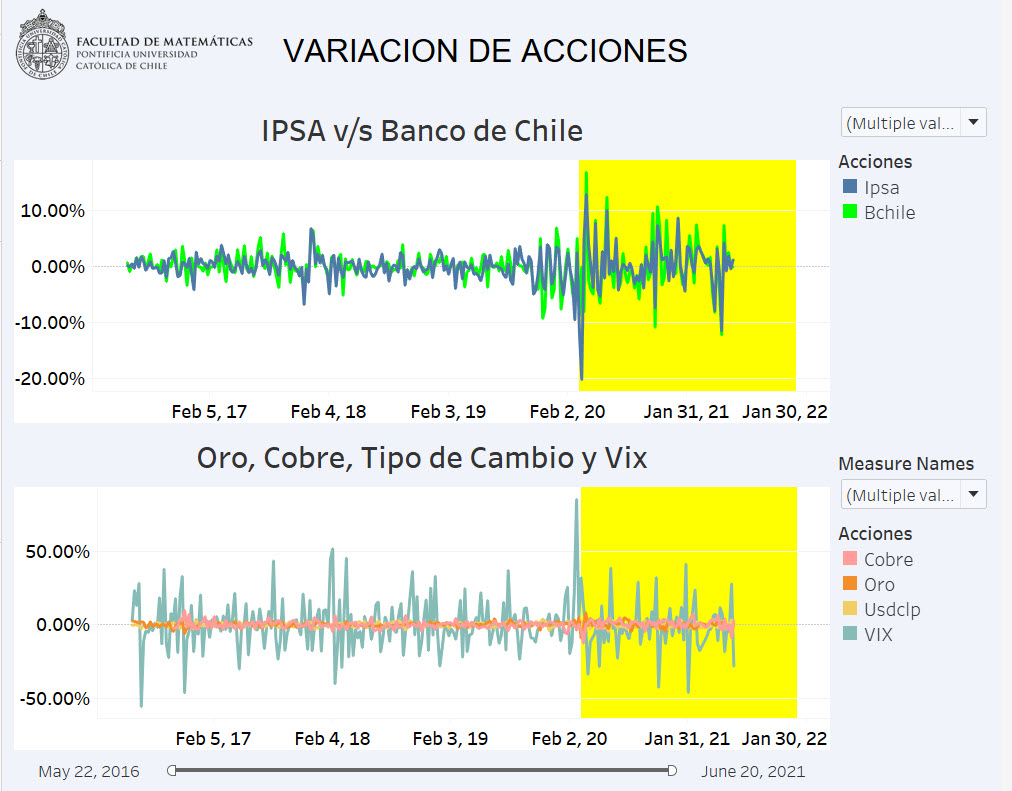

This screenshot's page, from the dashboard's own definition file:
{"tool":"tableau","page":{"name":"Dashboard 1","canvas":[1000,800],"ordinal":0},"visuals":[{"type":"image","param":"C:/Users/do603ra/OneDrive - EXPERIAN SERVICES CORP/Desktop/Documents/Diplomado D","box":[8,8,265,97]},{"type":"text","box":[273,8,719,97]},{"type":"worksheet","title":"Valor Acciones","mark":"Automatic","cols":["Dates"],"box":[8,105,824,310.5]},{"type":"filter","title":"Valor Acciones","param":"[federated.0wq98dv0ac4p2o17fgkwq043otzu].[:Measure Names]","box":[832,105,160,44]},{"type":"legend","title":"Valor Acciones","param":"[federated.0wq98dv0ac4p2o17fgkwq043otzu].[:Measure Names]","box":[832,149,160,209]},{"type":"filter","title":"Valor Acciones","param":"[federated.0wq98dv0ac4p2o17fgkwq043otzu].[twk:Dates:qk]","box":[8,415.5,824,33]},{"type":"filter","title":"Retorno Acciones","param":"[federated.0ksgszr1jfew8n1ft6bxq1y396vv].[:Measure Names]","box":[832,448,160,44]},{"type":"worksheet","title":"Retorno Acciones","mark":"Automatic","cols":["Dates"],"box":[8,448.5,824,310.5]},{"type":"legend","title":"Retorno Acciones","param":"[federated.0ksgszr1jfew8n1ft6bxq1y396vv].[:Measure Names]","box":[832,492,160,209]},{"type":"filter","title":"Retorno Acciones","param":"[federated.0ksgszr1jfew8n1ft6bxq1y396vv].[twk:Dates:qk]","box":[8,759,824,33]}]}

Visuals, with their boxes in screenshot pixels (x1, y1, x2, y2), scaled from the page's 1000x800 canvas onto the 1012x791 screenshot:
image: [x1=8, y1=8, x2=276, y2=104]
text: [x1=276, y1=8, x2=1004, y2=104]
"Valor Acciones" worksheet: [x1=8, y1=104, x2=842, y2=411]
"Valor Acciones" filter: [x1=842, y1=104, x2=1004, y2=147]
"Valor Acciones" legend: [x1=842, y1=147, x2=1004, y2=354]
"Valor Acciones" filter: [x1=8, y1=411, x2=842, y2=443]
"Retorno Acciones" filter: [x1=842, y1=443, x2=1004, y2=486]
"Retorno Acciones" worksheet: [x1=8, y1=443, x2=842, y2=750]
"Retorno Acciones" legend: [x1=842, y1=486, x2=1004, y2=693]
"Retorno Acciones" filter: [x1=8, y1=750, x2=842, y2=783]
